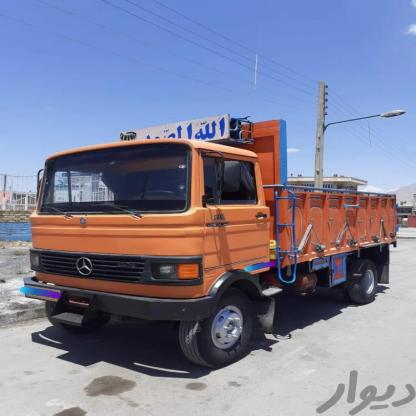Truck: (34, 111, 400, 362)
